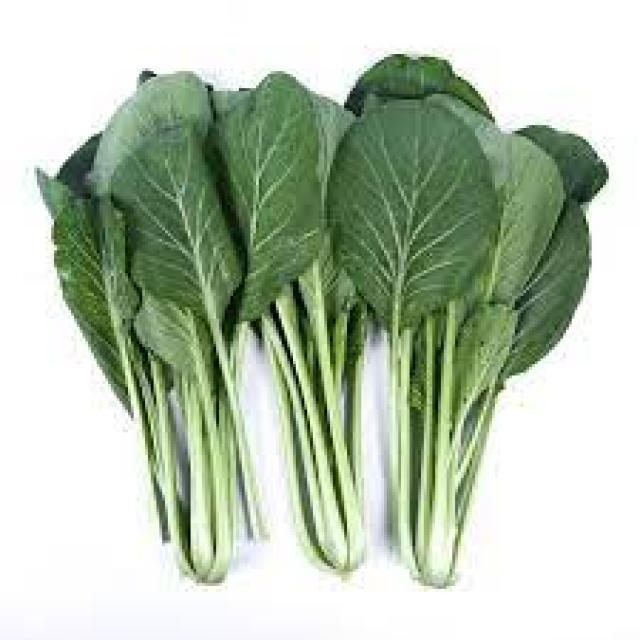bokchoy: (28, 49, 615, 598)
